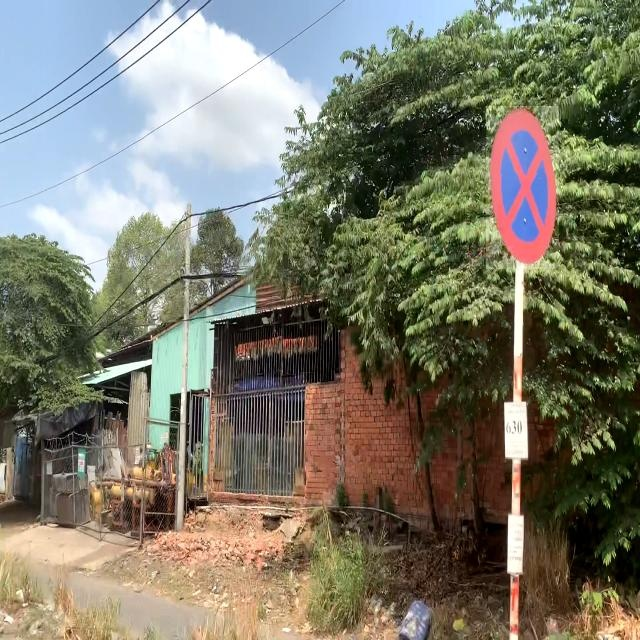bien_cam: (486, 106, 559, 269)
